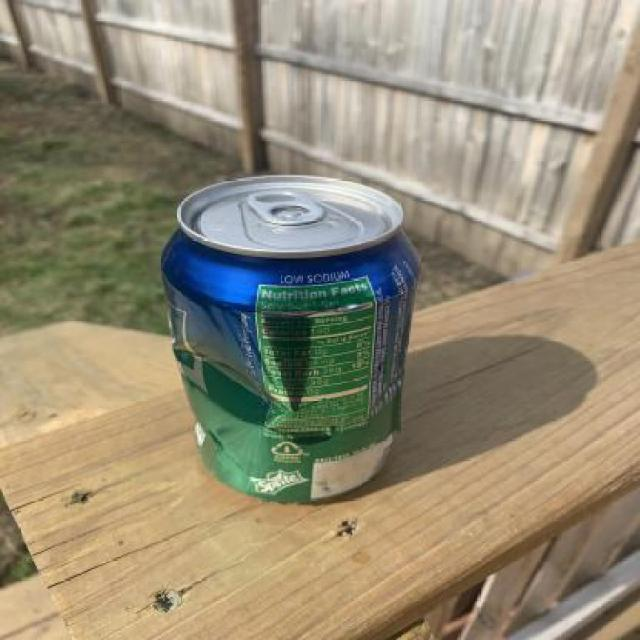can: (134, 124, 434, 518)
